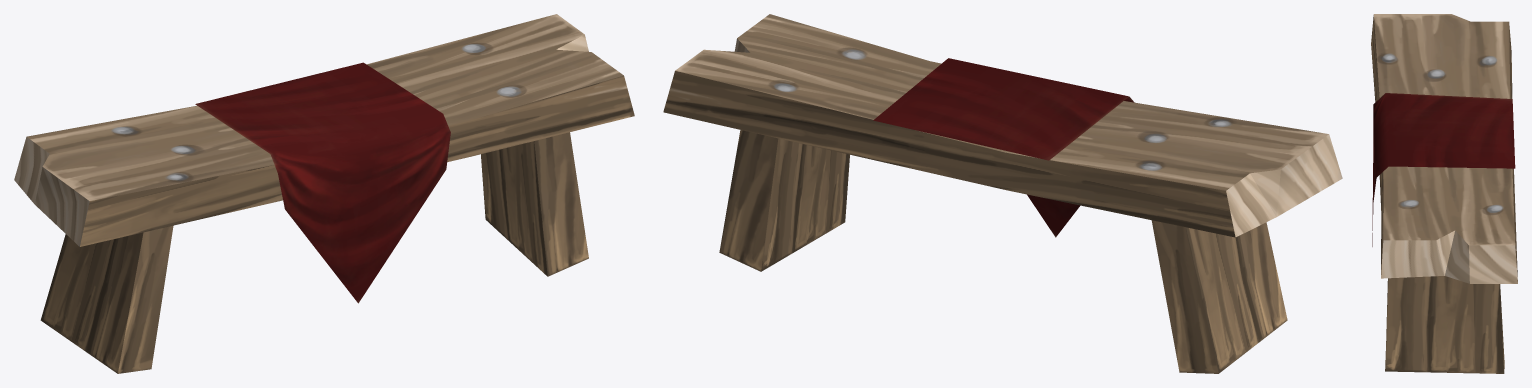
Rendered from bench.FBX.
3 views of the same model, side by side, from view 1: azimuth 30°, elevation 25°; view 2: azimuth 150°, elevation 25°; view 3: azimuth 270°, elevation 25° (orthographic). The views are drawn at different scales.
Parts seen in each view (by area): view 1: bench; view 2: bench; view 3: bench.
Part boxes in pixels (x1=…): bench: x1=14, y1=14, x2=634, y2=373; bench: x1=663, y1=14, x2=1342, y2=373; bench: x1=1371, y1=14, x2=1517, y2=373.
Bounding box in the file's own units: 68.5 × 22.16 × 18.38.
